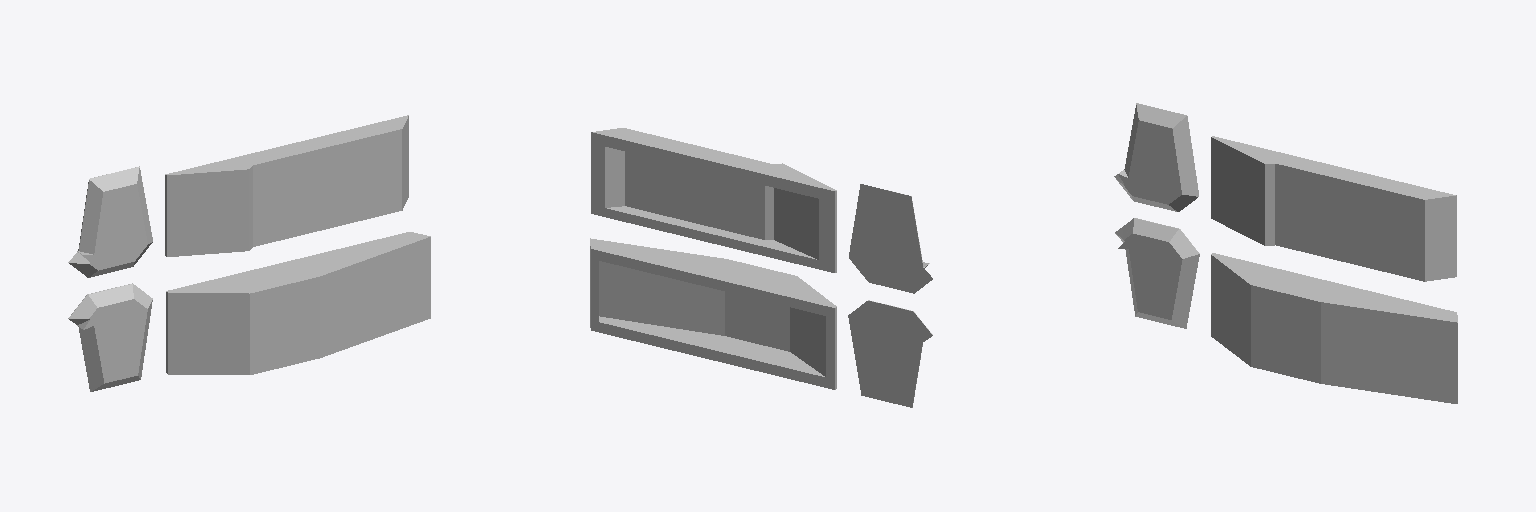
Rendered from Cardigan Arm Guns.obj.
3 views of the same model, side by side, from view 1: azimuth 30°, elevation 25°; view 2: azimuth 150°, elevation 25°; view 3: azimuth 330°, elevation 25° (orthographic).
Parts seen in each view (by area): view 1: obj_0; view 2: obj_0; view 3: obj_0.
Boxes of the visible parts, x1=… form: obj_0: x1=68, y1=115, x2=430, y2=391; obj_0: x1=590, y1=128, x2=932, y2=407; obj_0: x1=1114, y1=103, x2=1457, y2=403.
Size of the model in its own units: 61.2 by 35.2 by 7.12.